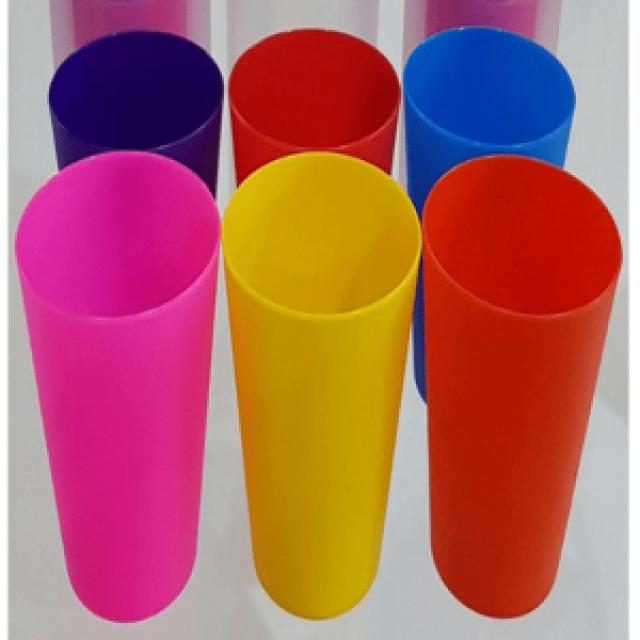plastic cup: (11, 149, 220, 636), (219, 150, 426, 628), (420, 149, 627, 625), (401, 26, 580, 204), (43, 26, 226, 194), (226, 26, 399, 188)
